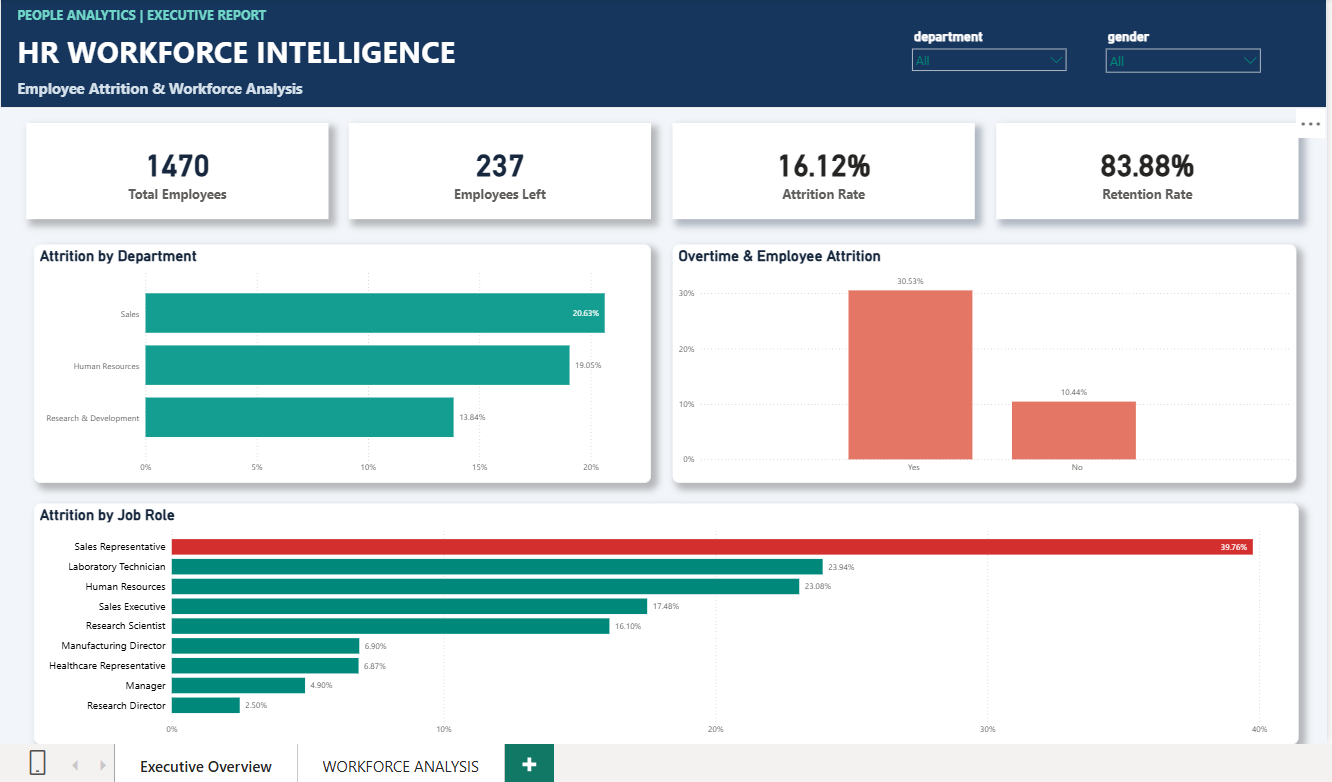

The dashboard page shown, as its layout file describes it:
{"tool":"powerbi","page":{"name":"Executive Overview","canvas":[1920,1080],"ordinal":0},"visuals":[{"type":"card","fields":{"Values":["HR Employees.Total Employees"]},"box":[38,181,437.9,139.3],"z":0},{"type":"card","fields":{"Values":["HR Employees.Employees Left"]},"box":[504.9,181,437.9,139.3],"z":1000},{"type":"card","fields":{"Values":["HR Employees.Attrition Rate"]},"box":[973.6,181,437.9,139.3],"z":2000},{"type":"card","fields":{"Values":["HR Employees.Retention Rate"]},"box":[1442.3,181,437.9,139.3],"z":3000},{"type":"clusteredBarChart","title":"Attrition by Department","fields":{"Category":["HR Employees.department"],"Y":["HR Employees.Attrition Rate"]},"box":[48.9,356.5,894,345.6],"z":4000},{"type":"clusteredBarChart","title":"Attrition by Job Role","fields":{"Category":["HR Employees.job_role"],"Y":["HR Employees.Attrition Rate"]},"box":[48.9,731.1,1831.4,349.3],"z":5000},{"type":"clusteredColumnChart","title":"Overtime & Employee Attrition","fields":{"Category":["HR Employees.over_time"],"Y":["HR Employees.Attrition Rate"]},"box":[973.6,356.5,903,345.6],"z":6000},{"type":"shape","box":[0,0,1920.1,159.3],"z":6500},{"type":"slicer","fields":{"Values":["HR Employees.gender"]},"box":[1590.7,39.8,244.3,70.6],"z":7000},{"type":"slicer","fields":{"Values":["HR Employees.department"]},"box":[1311.1,39.5,243.4,70],"z":8000},{"type":"textbox","box":[20.3,42.6,675.7,67],"z":10000},{"type":"textbox","box":[20.3,8.1,430.2,50],"z":11000},{"type":"textbox","box":[20.3,109.6,482.9,50],"z":12000}]}

Visuals, with their boxes on the page's 1920x1080 design canvas (x1, y1, x2, y2). These are canvas units, not pixel positions in the 1332x782 screenshot, which may show the page scaled, cropped or inside an application window:
card - HR Employees.Total Employees: (x1=38, y1=181, x2=476, y2=320)
card - HR Employees.Employees Left: (x1=505, y1=181, x2=943, y2=320)
card - HR Employees.Attrition Rate: (x1=974, y1=181, x2=1412, y2=320)
card - HR Employees.Retention Rate: (x1=1442, y1=181, x2=1880, y2=320)
"Attrition by Department" clusteredBarChart: (x1=49, y1=356, x2=943, y2=702)
"Attrition by Job Role" clusteredBarChart: (x1=49, y1=731, x2=1880, y2=1080)
"Overtime & Employee Attrition" clusteredColumnChart: (x1=974, y1=356, x2=1877, y2=702)
shape: (x1=0, y1=0, x2=1920, y2=159)
slicer - HR Employees.gender: (x1=1591, y1=40, x2=1835, y2=110)
slicer - HR Employees.department: (x1=1311, y1=40, x2=1554, y2=110)
textbox: (x1=20, y1=43, x2=696, y2=110)
textbox: (x1=20, y1=8, x2=450, y2=58)
textbox: (x1=20, y1=110, x2=503, y2=160)
